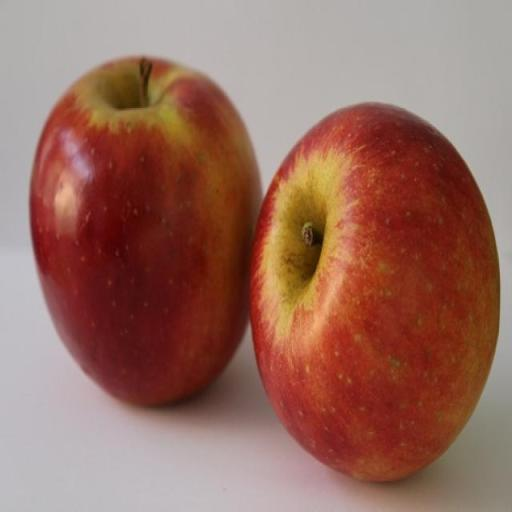fruit: (250, 103, 498, 479), (29, 57, 259, 403)
